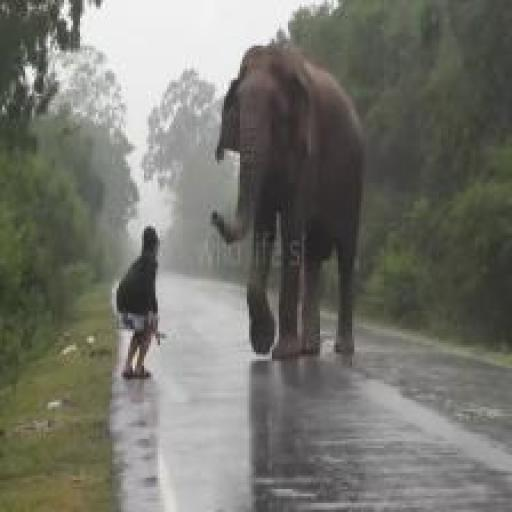Elephant: (192, 30, 385, 384)
